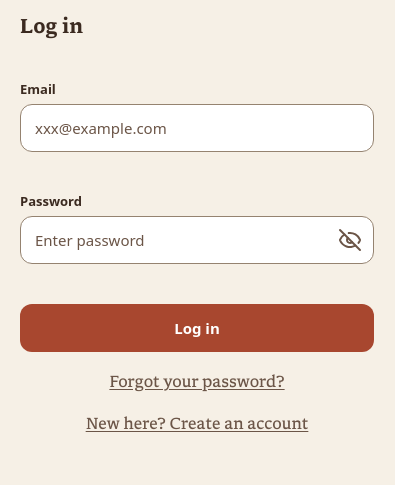
Test: LogIn › shows a failure to reach the server as a server error, under the button
The width and height of the screenshot is (395, 485).
Type "ana@example.com" into the field labelled "Email" at {"x": 197, "y": 128}, box [20,104,374,152]
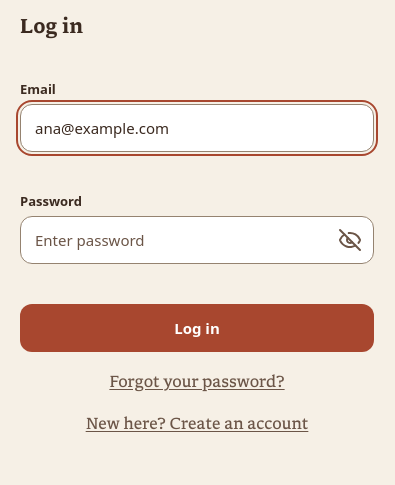
Type "correct-horse-1" into the password field labelled "Password" at {"x": 197, "y": 240}, box [20,216,374,264]
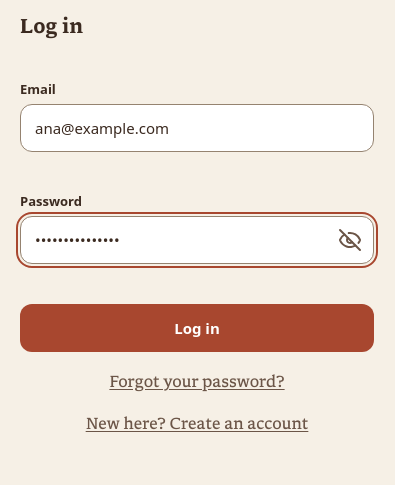
Click the button "Log in" at {"x": 197, "y": 328}, box [20,304,374,352]
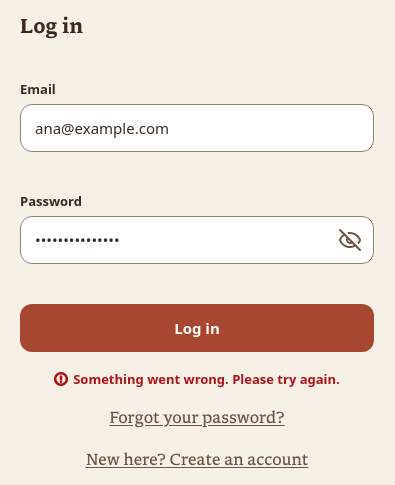
Expected: the message reads "Something went wrong. Please try again.", [73,370,340,388]
